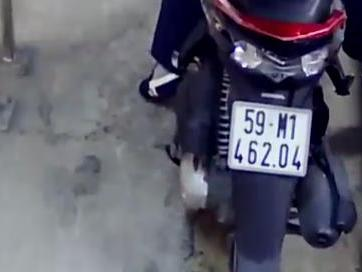num_plate: (226, 99, 312, 176)
